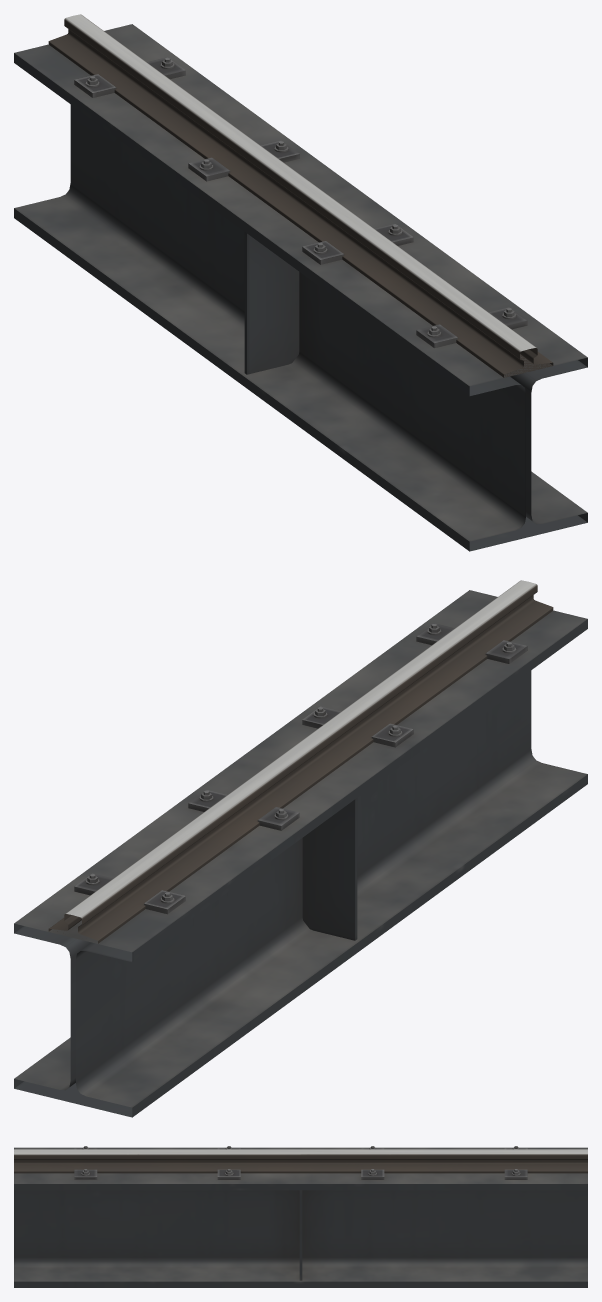
The model's file is Runway_Segment.fbx.
3 views of the same model, one above another, from view 1: azimuth 30°, elevation 25°; view 2: azimuth 150°, elevation 25°; view 3: azimuth 270°, elevation 25° (orthographic). The views are drawn at different scales.
Visible parts, largest first — view 1: Runway_Segment_LOD0; view 2: Runway_Segment_LOD0; view 3: Runway_Segment_LOD0.
Part boxes in pixels (x1,y1,x2,y2): Runway_Segment_LOD0: (14,14,587,551); Runway_Segment_LOD0: (14,580,587,1117); Runway_Segment_LOD0: (14,1146,587,1287).
Size of what is drawn, in the model's own units: 0.3 by 0.455 by 2.
1 material, 1 textured.
